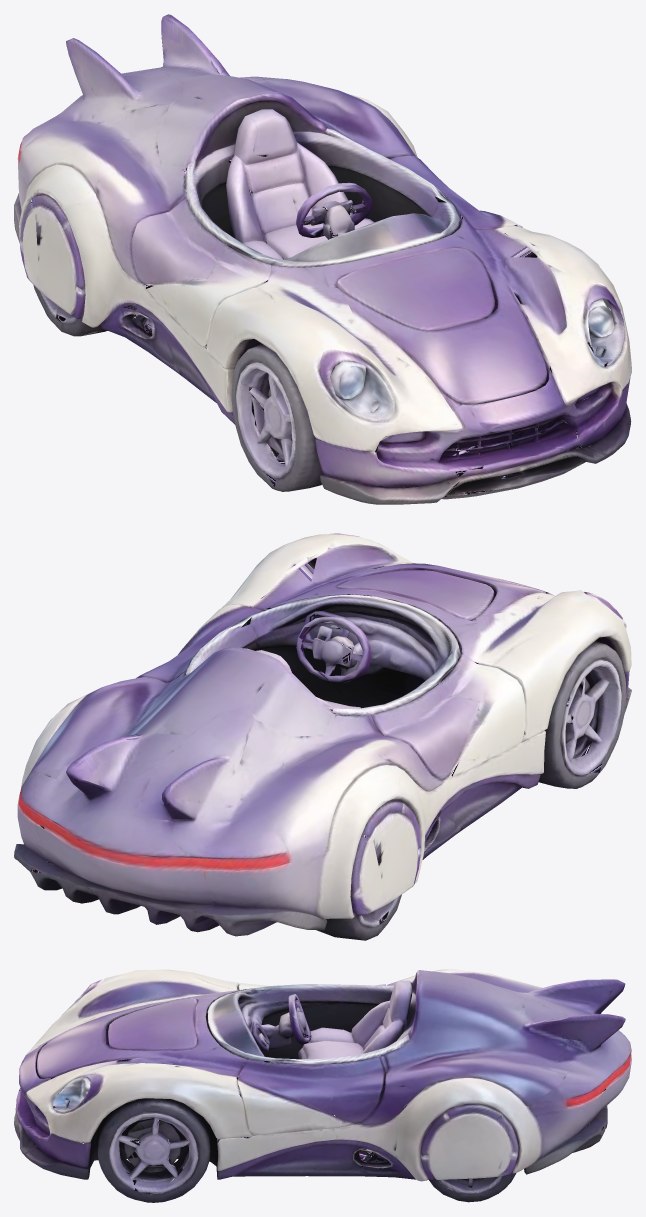
The model's file is nova-mobile.glb.
3 views of the same model, one above another, from view 1: azimuth 30°, elevation 25°; view 2: azimuth 150°, elevation 25°; view 3: azimuth 270°, elevation 25° (orthographic). The views are drawn at different scales.
Visible parts, largest first — view 1: model; view 2: model; view 3: model.
Boxes of the visible parts, x1,y1,x2,y2 form: model: (14, 14, 631, 504); model: (14, 533, 631, 940); model: (14, 969, 631, 1202).
Bounding box in the file's own units: 0.9275 × 0.5769 × 1.9.
Materials: 1 (1 with a texture image).
